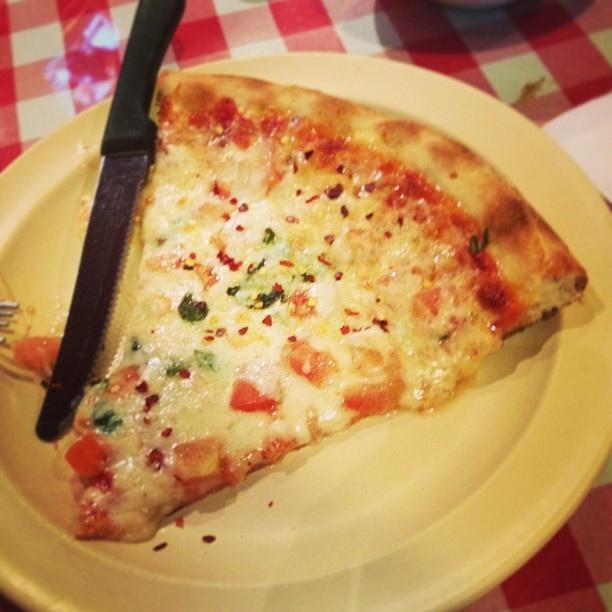tomato: (342, 380, 406, 416), (174, 437, 224, 483), (12, 336, 64, 380), (64, 431, 112, 477), (289, 342, 335, 382), (231, 382, 276, 412), (416, 288, 440, 316)
